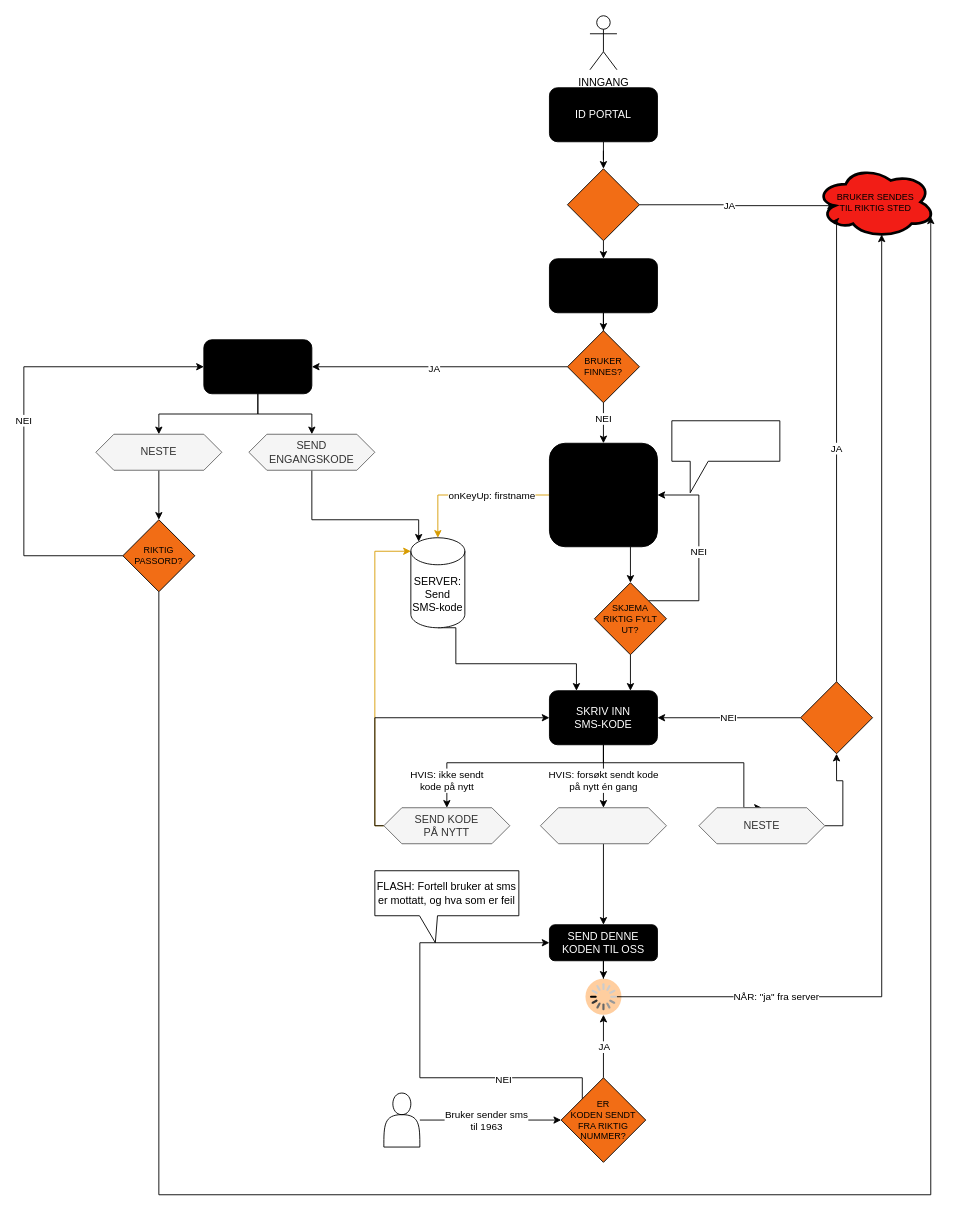
This 954x1218 diagram has some shape labels left out. Each missing label, with the centre of its shape:
"BRUKER LOGGET INN?" belongs at pixel 603 204.
"FLASH: Marker felter som er feil" belongs at pixel 725 456.
"JEG FIKK IKKE KODE" belongs at pixel 603 825.
"REGISTRER BRUKER - fornavn - etternavn - alder - e-post" belongs at pixel 603 494.
"RIKTIG KODE?" belongs at pixel 836 717.
"SKRIV INN MOBILNUMMER" belongs at pixel 603 285.
"SKRIV INN PASSORD" belongs at pixel 257 366.
